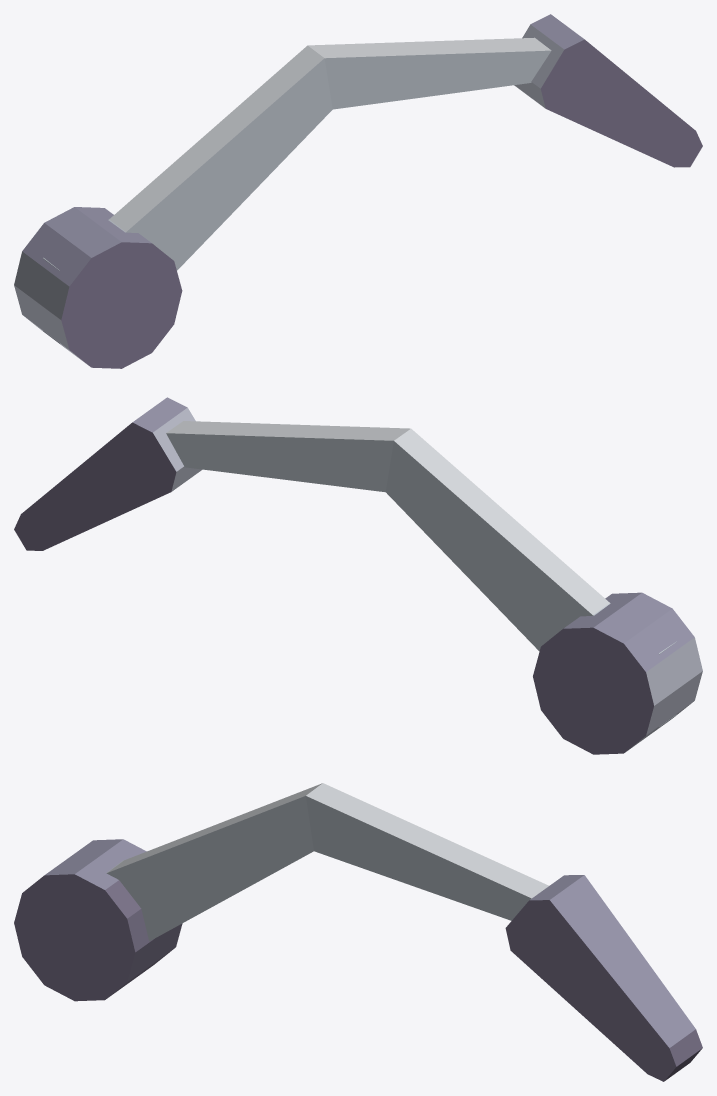
File: claw_arm_model.glb
3 renders of one model, top to bottom at view 1: azimuth 30°, elevation 25°; view 2: azimuth 150°, elevation 25°; view 3: azimuth 330°, elevation 25°, orthographic.
Visible parts, largest first — view 1: claw_arm_model; view 2: claw_arm_model; view 3: claw_arm_model.
Boxes of the visible parts, x1,y1,x2,y2 form: claw_arm_model: [14, 14, 702, 368]; claw_arm_model: [14, 397, 702, 754]; claw_arm_model: [14, 783, 702, 1081].
Bounding box in the file's own units: 2.75 × 0.9992 × 0.3506.
